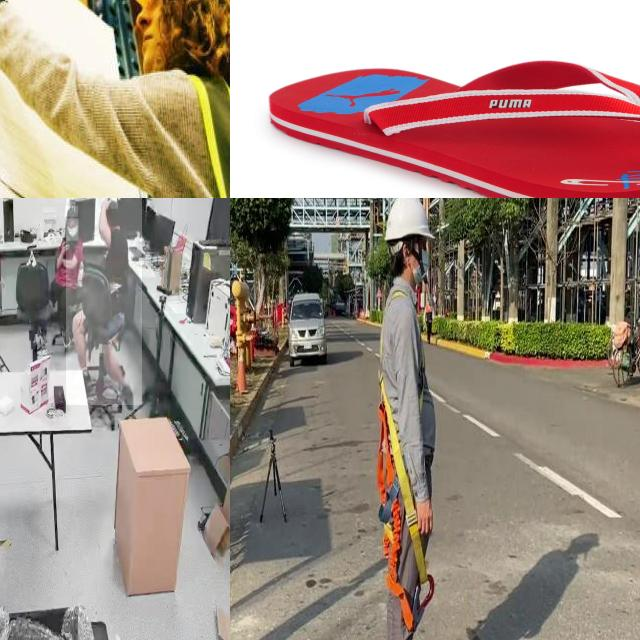Harness: (377, 377, 435, 634), (148, 68, 230, 198)
Sandals: (266, 56, 640, 198)
face_mask: (66, 218, 78, 240)
hand_noglove: (99, 198, 110, 210), (60, 238, 70, 250)
head_nohelmet: (101, 198, 118, 209), (65, 206, 79, 218)
person: (65, 198, 142, 406), (40, 202, 83, 312)
